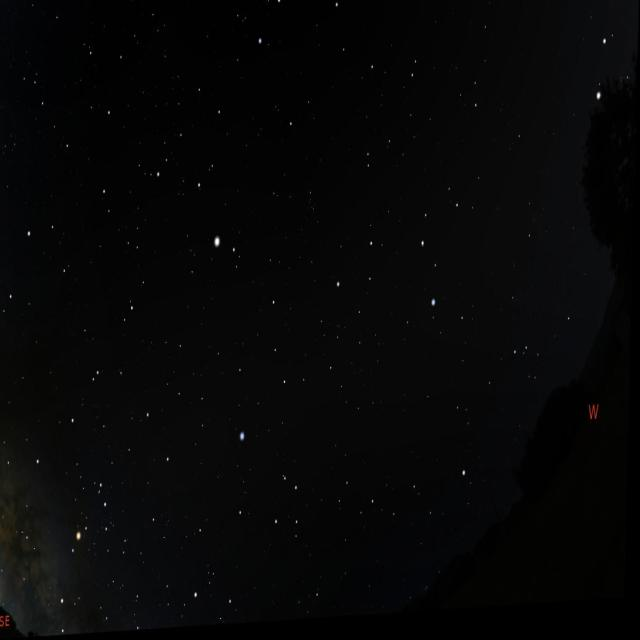bootes: (166, 72, 249, 266)
leo: (322, 165, 479, 348)
scorpius: (43, 452, 122, 638)
